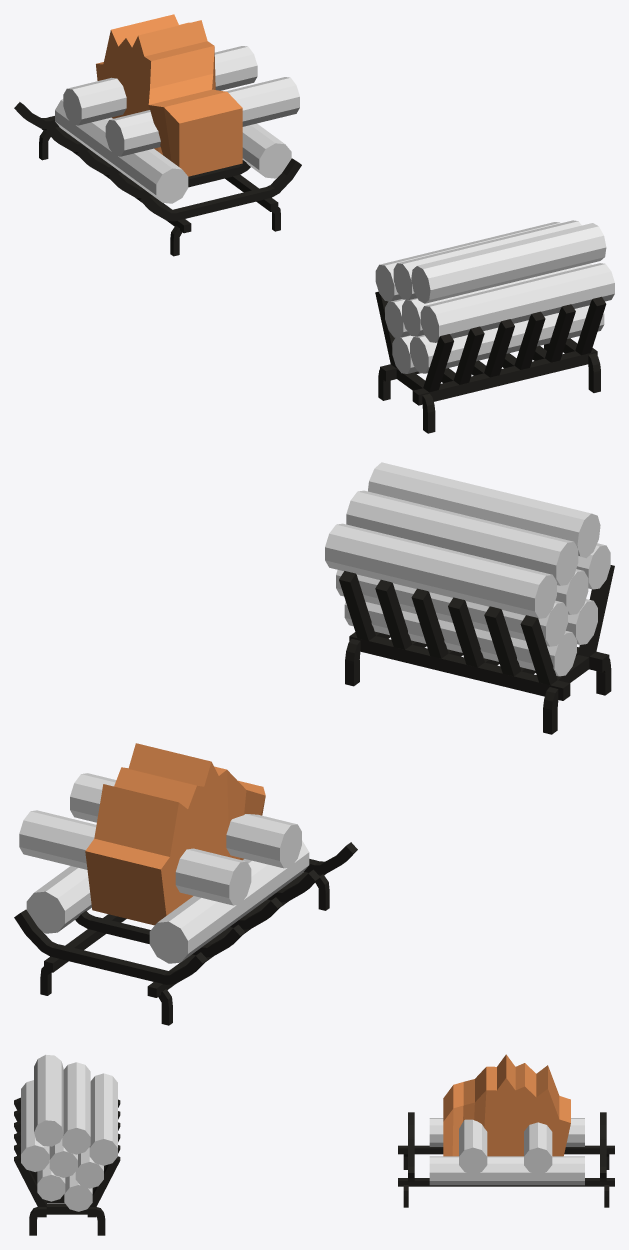
3 renders of one model, top to bottom at view 1: azimuth 30°, elevation 25°; view 2: azimuth 150°, elevation 25°; view 3: azimuth 270°, elevation 25°, orthographic. The views are drawn at different scales.
Parts seen in each view (by area): view 1: Cylinder.114, Sphere.032, Sphere.003, Cylinder.007; view 2: Cylinder.114, Sphere.032, Sphere.003, Cylinder.007; view 3: Cylinder.114, Sphere.032, Sphere.003, Cylinder.007.
Part boxes in pixels (<box>): Cylinder.114: <box>375,220,614,373</box>; Sphere.032: <box>14,14,301,256</box>; Sphere.003: <box>55,46,299,203</box>; Cylinder.007: <box>375,291,606,433</box>; Cylinder.114: <box>325,462,610,676</box>; Sphere.032: <box>14,743,357,1025</box>; Sphere.003: <box>19,773,309,963</box>; Cylinder.007: <box>339,565,614,734</box>; Cylinder.114: <box>21,1054,117,1211</box>; Sphere.032: <box>398,1054,614,1207</box>; Sphere.003: <box>429,1118,584,1185</box>; Cylinder.007: <box>14,1097,120,1235</box>.
Bounding box in the file's own units: 75.8 × 54.68 × 237.
